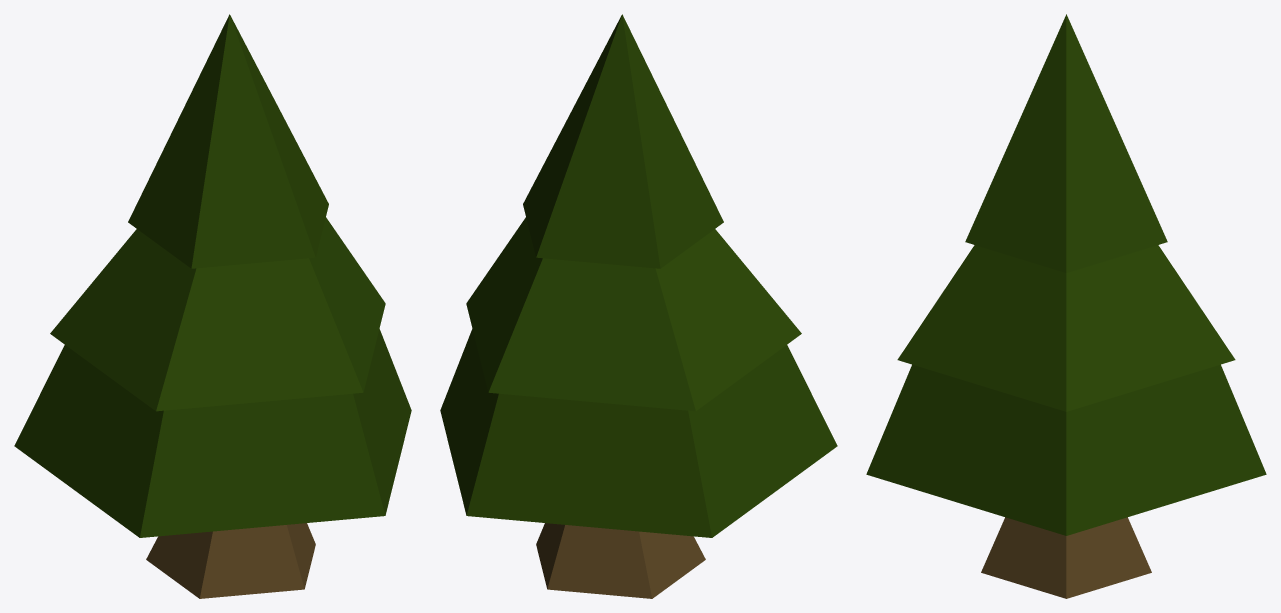
File: ThiccTree.fbx
3 renders of one model, left to right at view 1: azimuth 30°, elevation 25°; view 2: azimuth 150°, elevation 25°; view 3: azimuth 270°, elevation 25°, orthographic.
Visible parts, largest first — view 1: pCone4; view 2: pCone4; view 3: pCone4.
Part boxes in pixels (box(x1,y1,x2,y2)): pCone4: box(14, 14, 411, 598); pCone4: box(440, 14, 837, 598); pCone4: box(866, 14, 1266, 598).
Size of the model in its own units: 4.87 by 7.67 by 5.12.
